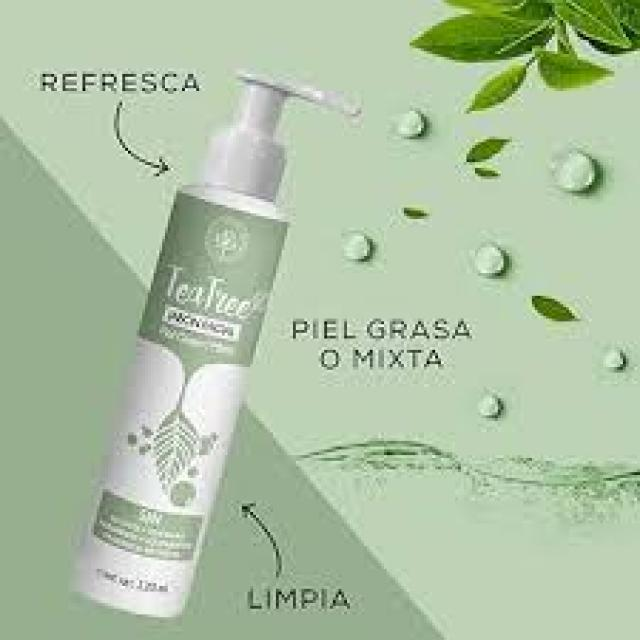Botella: (107, 59, 310, 622)
